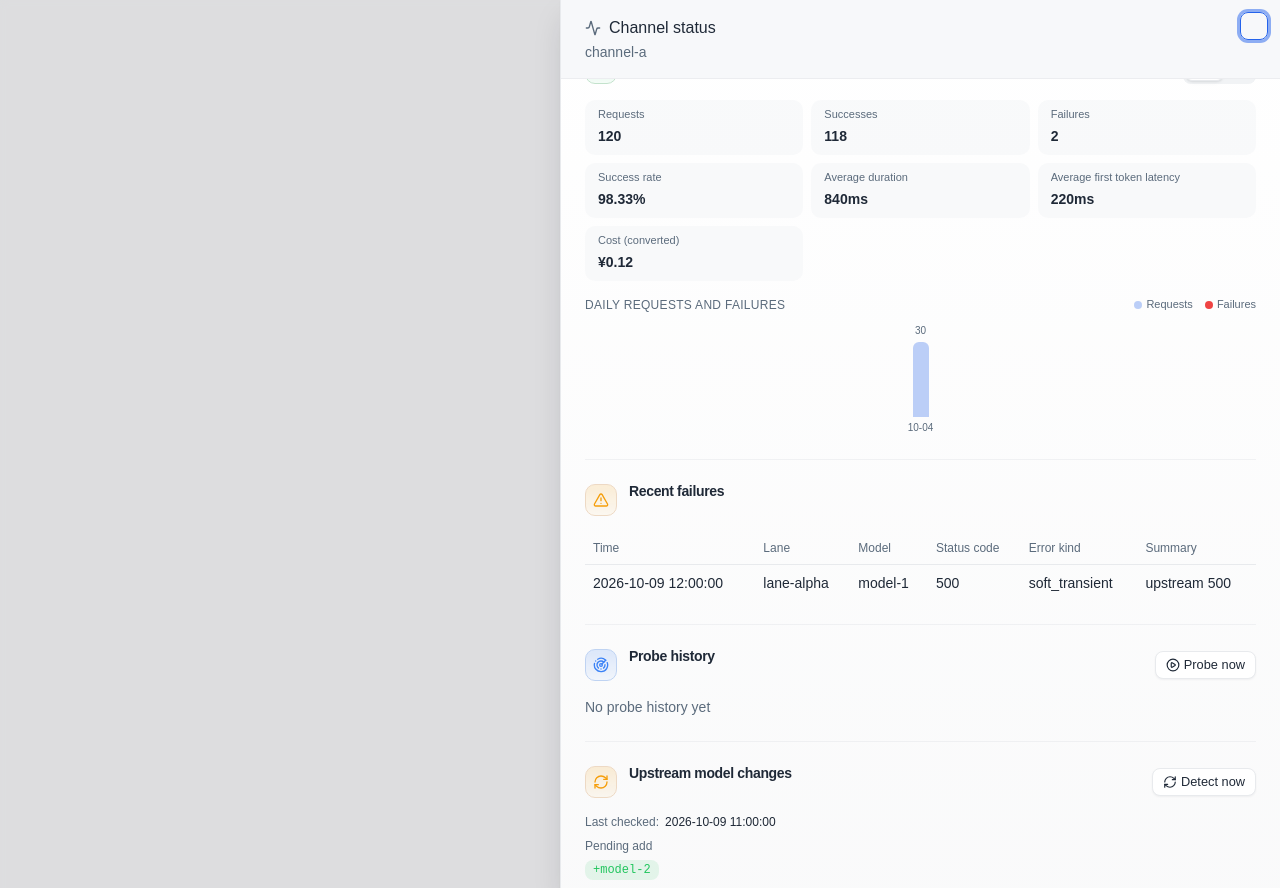
Scenario: ChannelStatusDrawer 立即探活 › probes the channel and reloads the detail so the history gains a record
The image size is (1280, 888).
(page scrolled)
Expected: the text "No probe history yet" is shown, [585,699,710,715]
Click the button "Probe now" at (1205, 665), box [1155,651,1256,679]
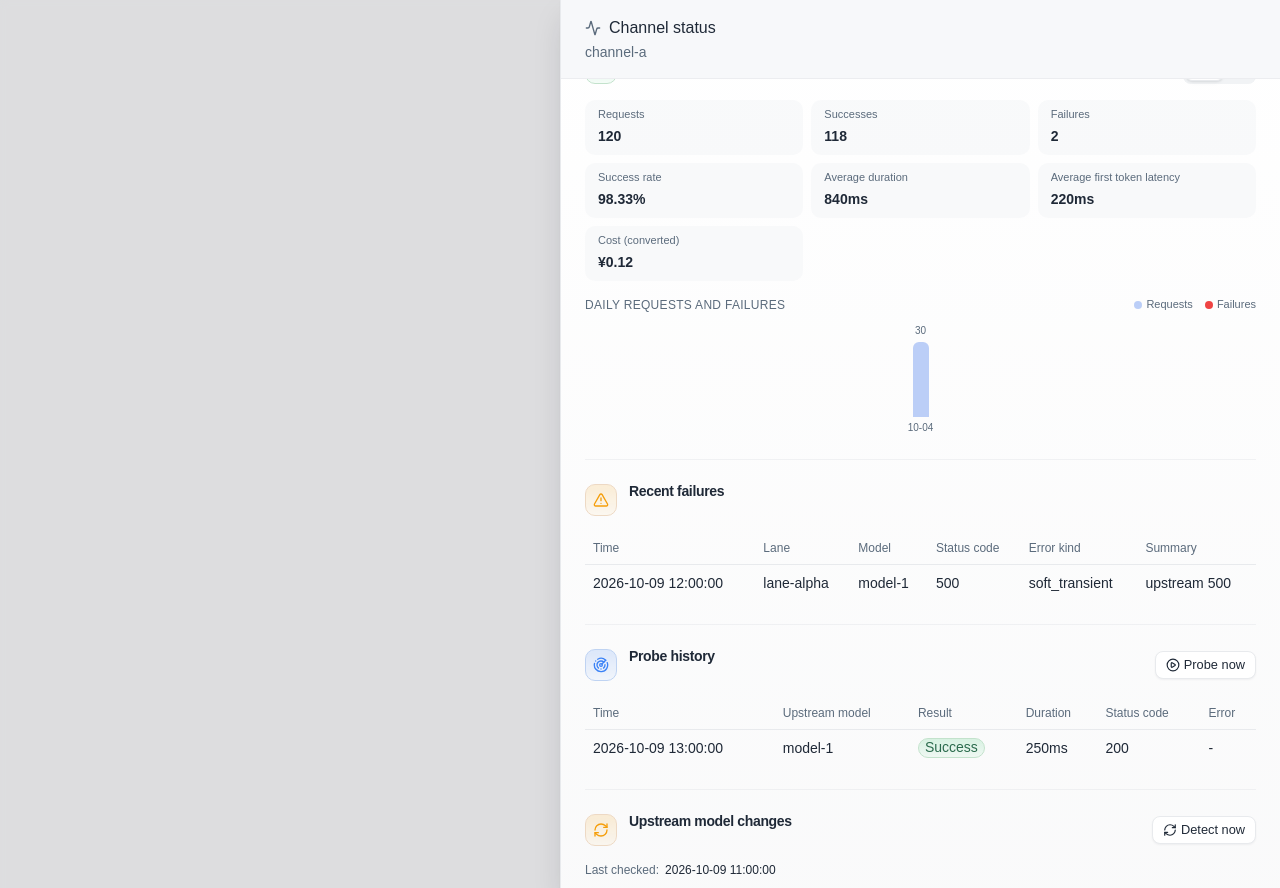
Expected: the text "250ms" is shown, [1018,729,1097,765]
Expected: the text "No probe history yet" is gone
